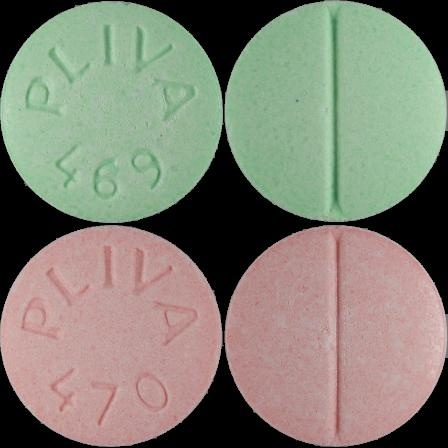50111-469: (0, 0, 224, 224)
